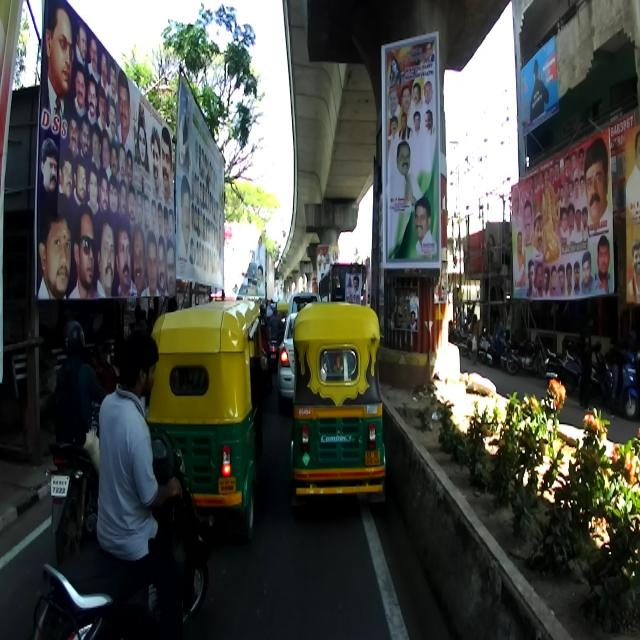autorickshaw: (147, 298, 263, 538), (287, 300, 385, 520)
motorcycle_Honda: (49, 398, 105, 568)
scooter: (30, 423, 208, 639), (562, 339, 613, 400), (598, 349, 640, 418)
